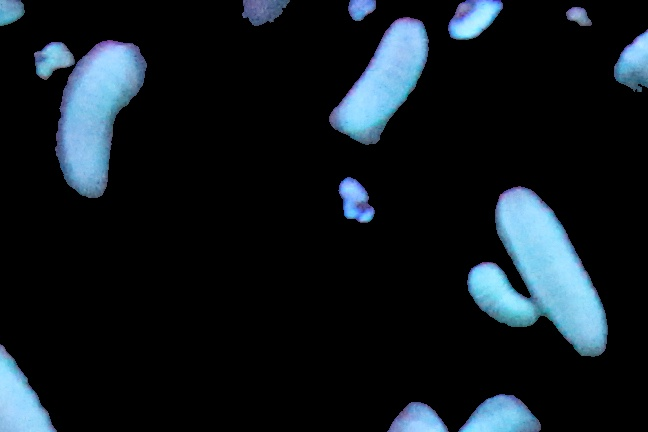larvae: (491, 183, 612, 368), (52, 33, 146, 200), (333, 15, 427, 147), (468, 254, 536, 332)
